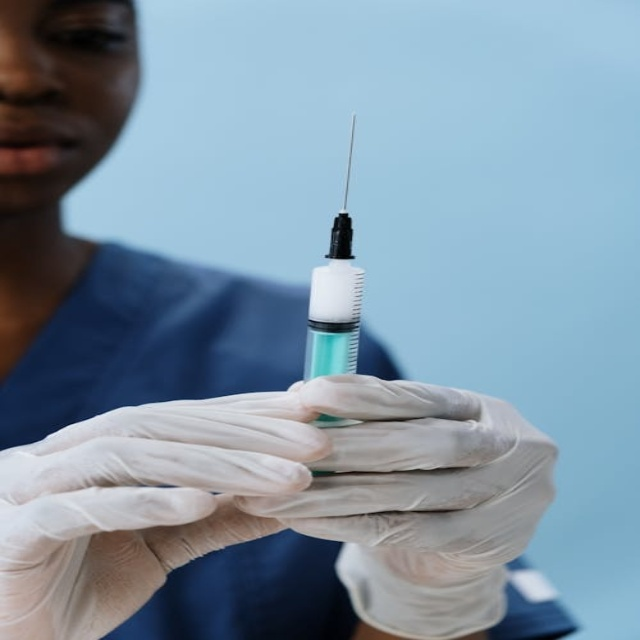Guantes: (3, 364, 312, 637), (296, 367, 576, 630)
Sin_gafas: (4, 1, 134, 56)
Sin_mascara: (1, 113, 105, 202)
